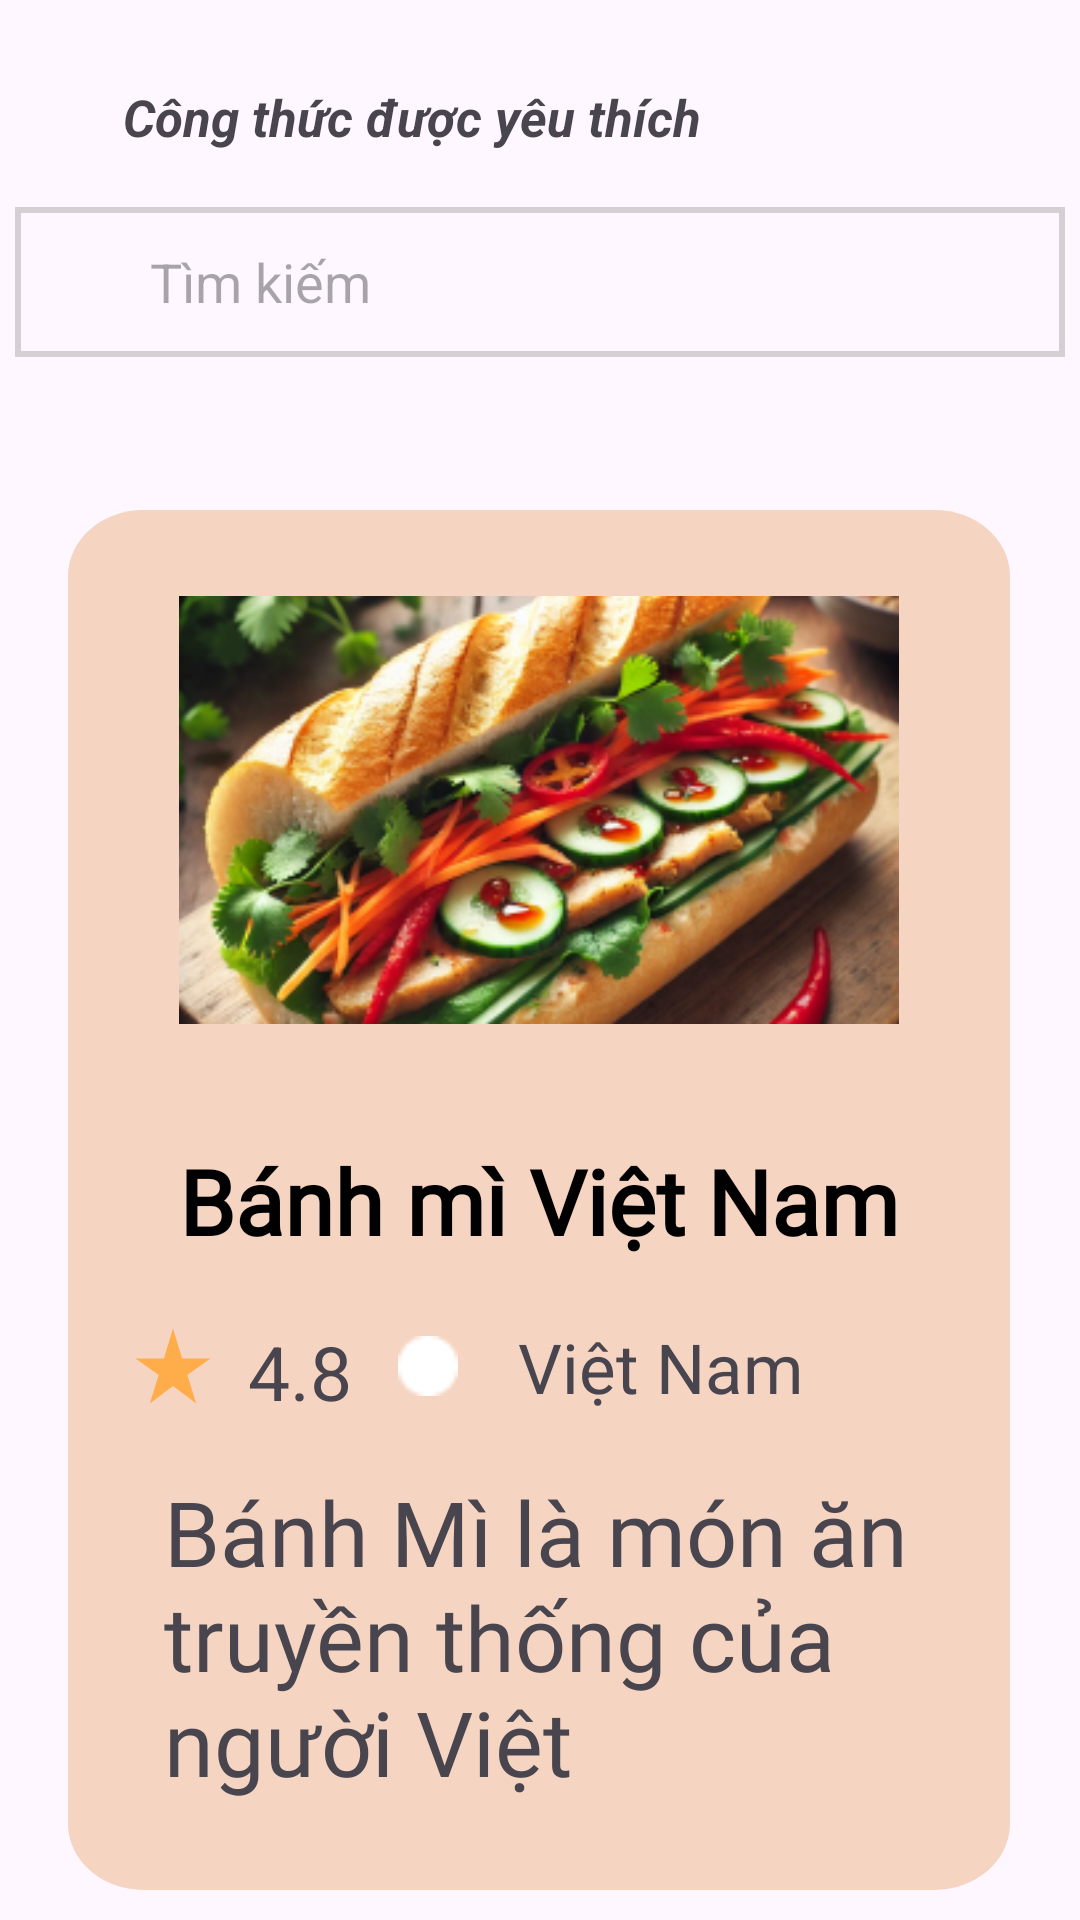

Icons on this 1080w x 1920h Android screen, each with the point to tap as (x=x, y=y):
star: (x=173, y=1366)
